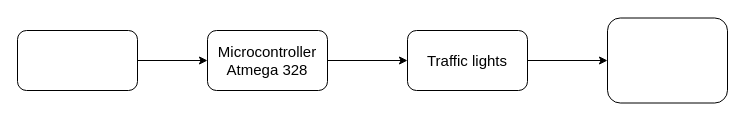
The diagram is 745 pixels wide and 120 high, and some of its shapes have lost their labels. Here are the shapes that lost their labels. From the top down, the centre of each, then its label:
At pixel 77 60: "Power supply".
At pixel 667 60: "Led *R *Y *G".
